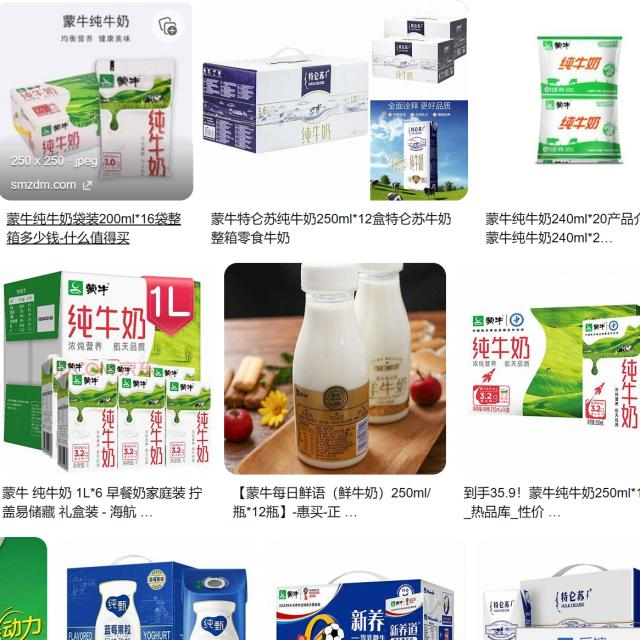mengniu_milk: (98, 67, 174, 111), (582, 319, 640, 356), (67, 373, 118, 408), (120, 374, 168, 410), (170, 380, 211, 412)
